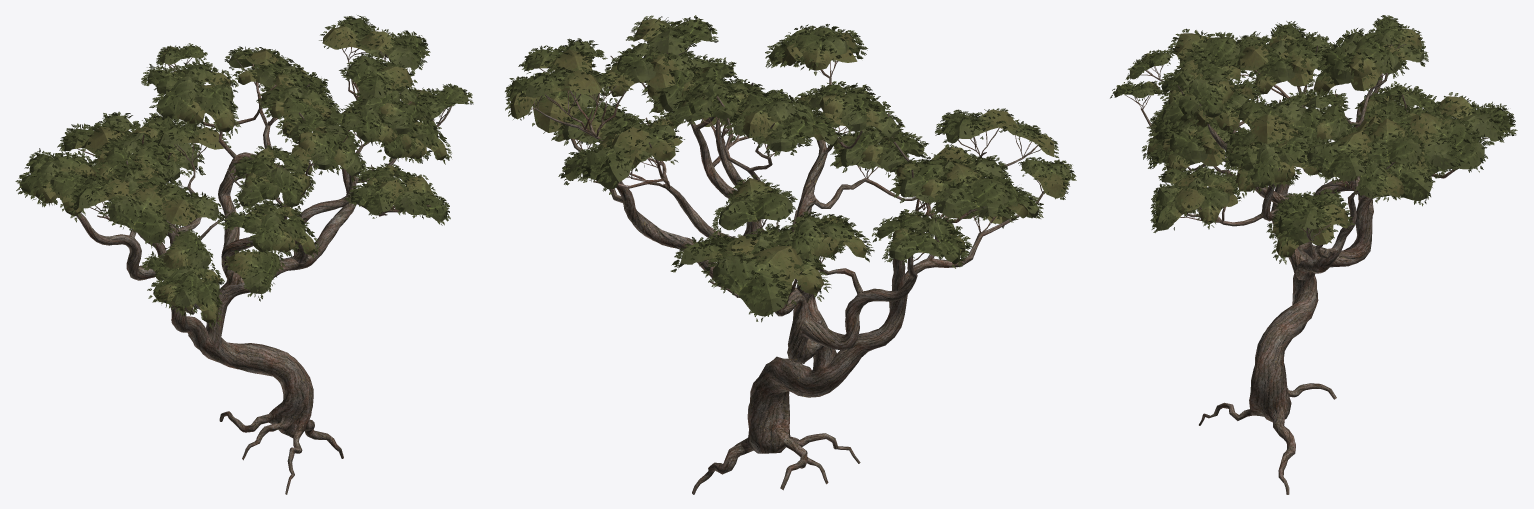
File: Oldtree.fbx
The picture shows the model from 3 angles, left to right: view 1: azimuth 30°, elevation 25°; view 2: azimuth 150°, elevation 25°; view 3: azimuth 270°, elevation 25°; orthographic projection. The views are drawn at different scales.
Parts seen in each view (by area): view 1: SM_Lounge_Tree; view 2: SM_Lounge_Tree; view 3: SM_Lounge_Tree.
Boxes of the visible parts, x1,y1,x2,y2 form: SM_Lounge_Tree: [15, 15, 473, 494]; SM_Lounge_Tree: [505, 15, 1076, 494]; SM_Lounge_Tree: [1110, 15, 1517, 494].
Size of the model in its own units: 467 by 432 by 387.
Materials: 3 (3 with a texture image).
